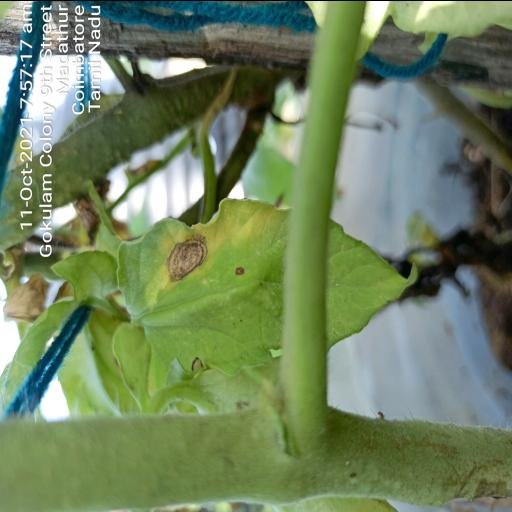disease_tomato: (118, 197, 418, 377)
